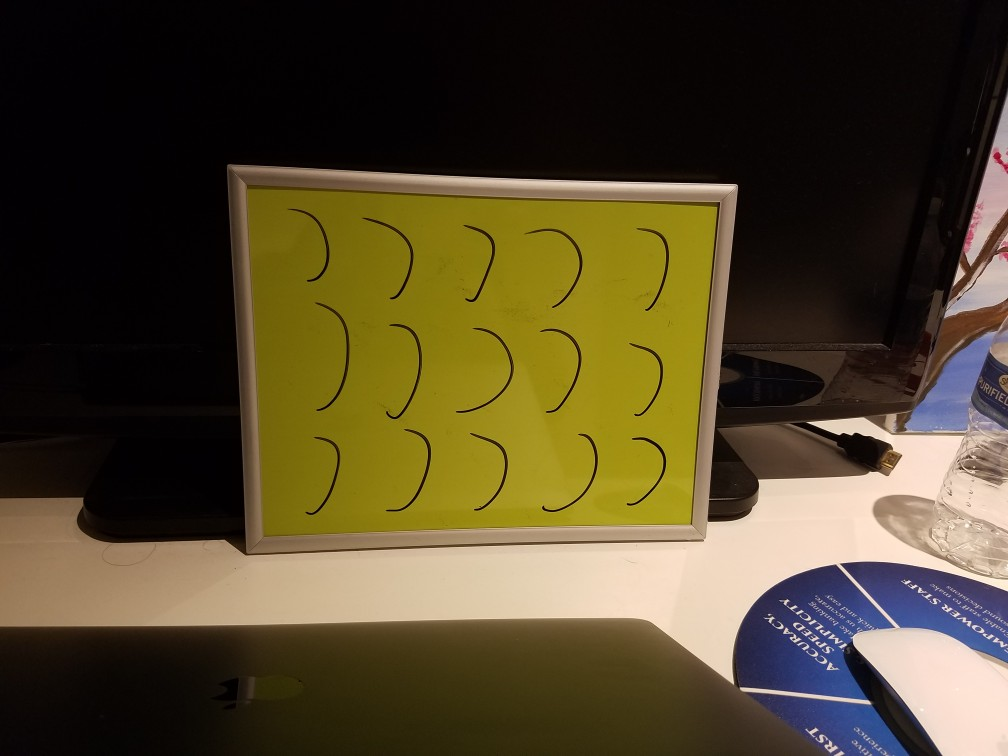): (298, 298, 357, 416), (522, 218, 588, 318), (534, 428, 605, 518), (452, 318, 515, 418), (621, 215, 681, 316), (528, 323, 585, 420), (291, 429, 350, 520), (379, 315, 428, 424), (364, 210, 420, 304), (383, 427, 438, 520), (615, 430, 674, 513), (617, 334, 671, 421), (456, 424, 507, 516), (453, 211, 497, 303), (288, 201, 334, 286)
